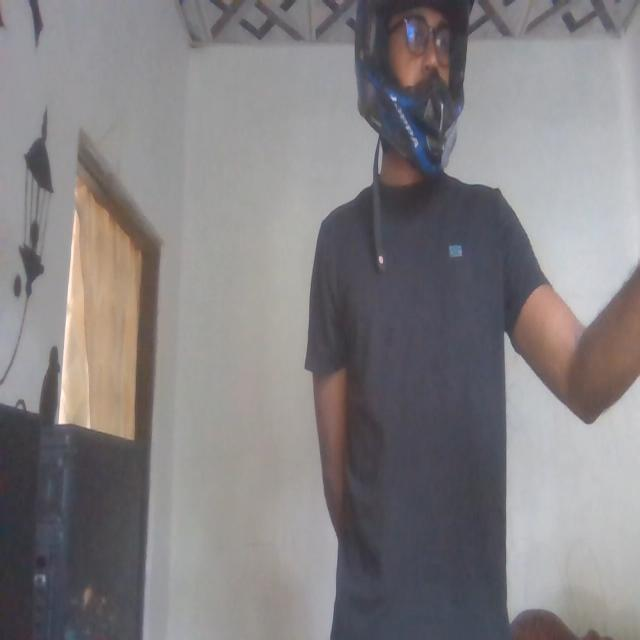Helmet_Wearer: (348, 0, 485, 204)
Person: (306, 2, 572, 640)
